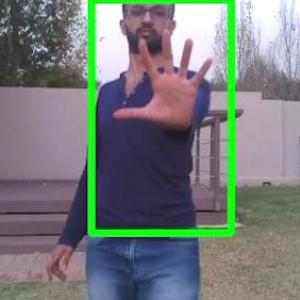follow_hand: (112, 25, 217, 132)
